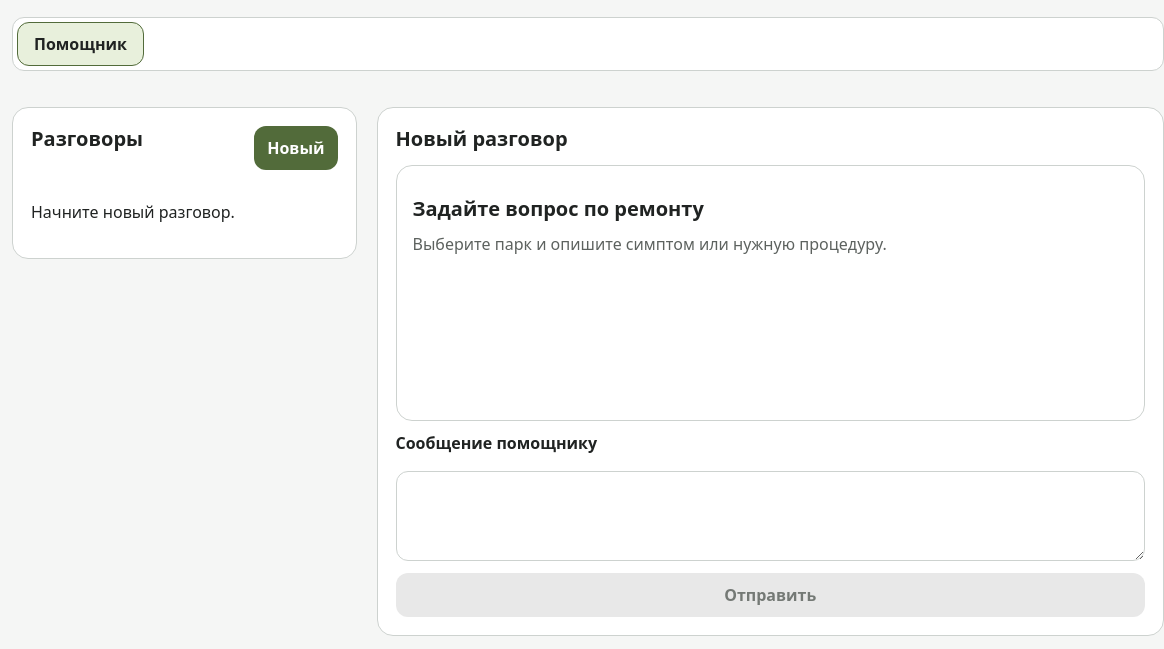
Test case: AssistantPage › preserves a failed chat draft and renders returned source citations after retry
Type "Как проверить лидар?" into the text box labelled "Сообщение помощнику" at (770, 516), box 396,471 -> 1145,561
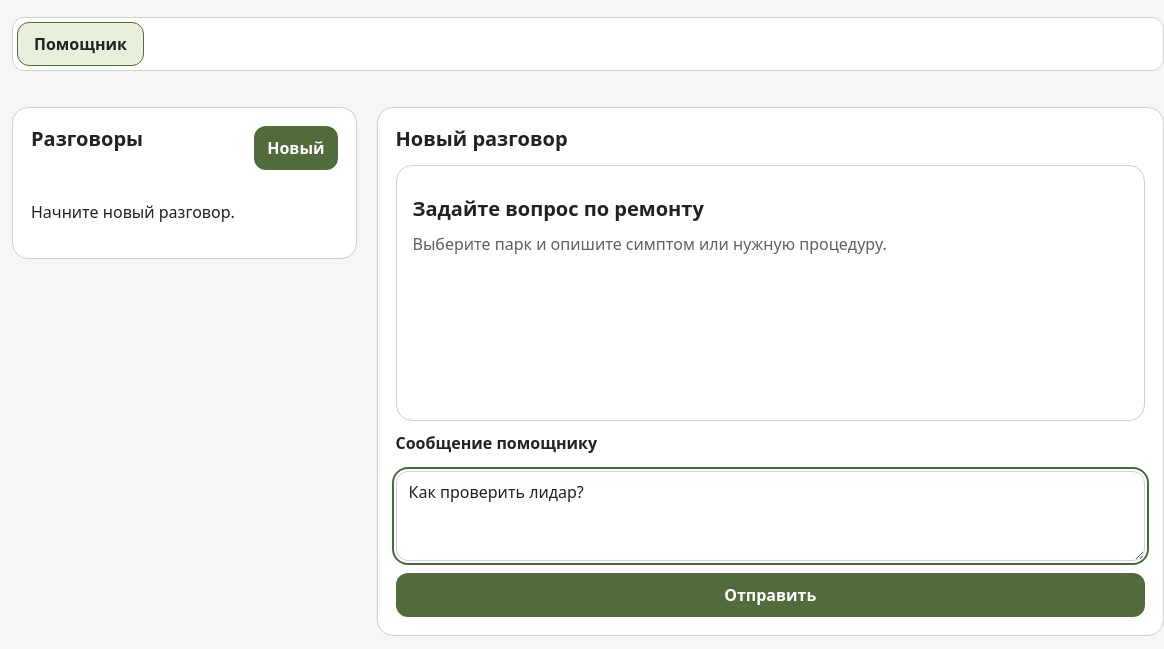
Click the button "Отправить" at (770, 595), box 396,573 -> 1145,617
(page scrolled)
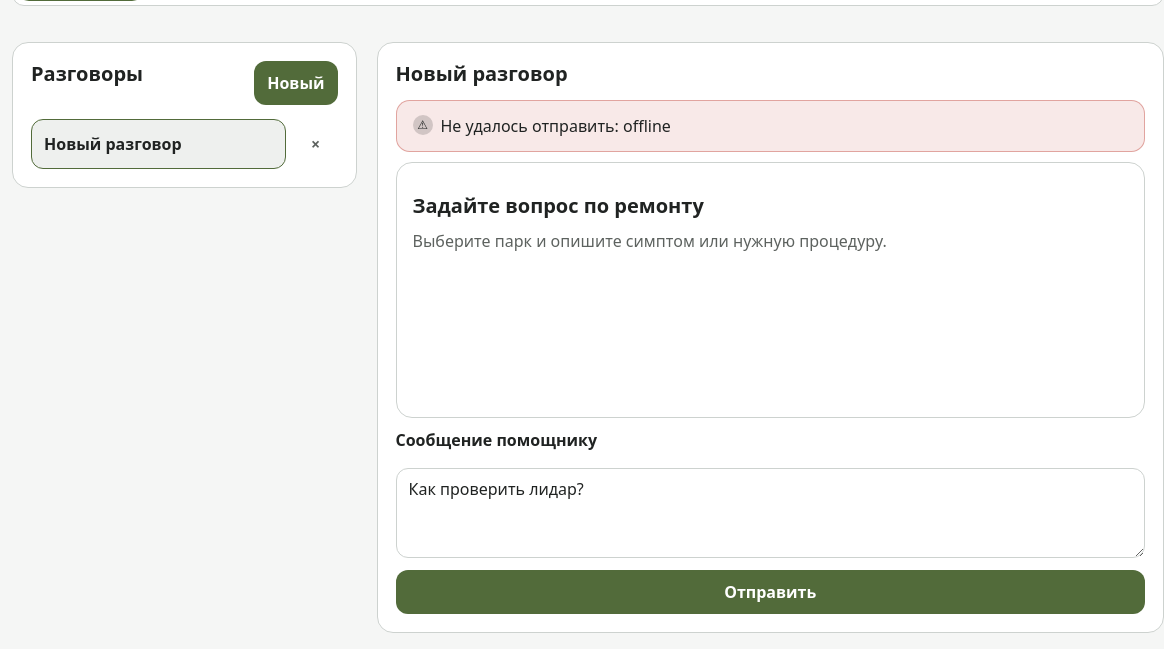
Result: the message shows "Не удалось отправить" at 440,115 -> 671,137
Click the button "Отправить" at (770, 592), box 396,570 -> 1145,614
(page scrolled)
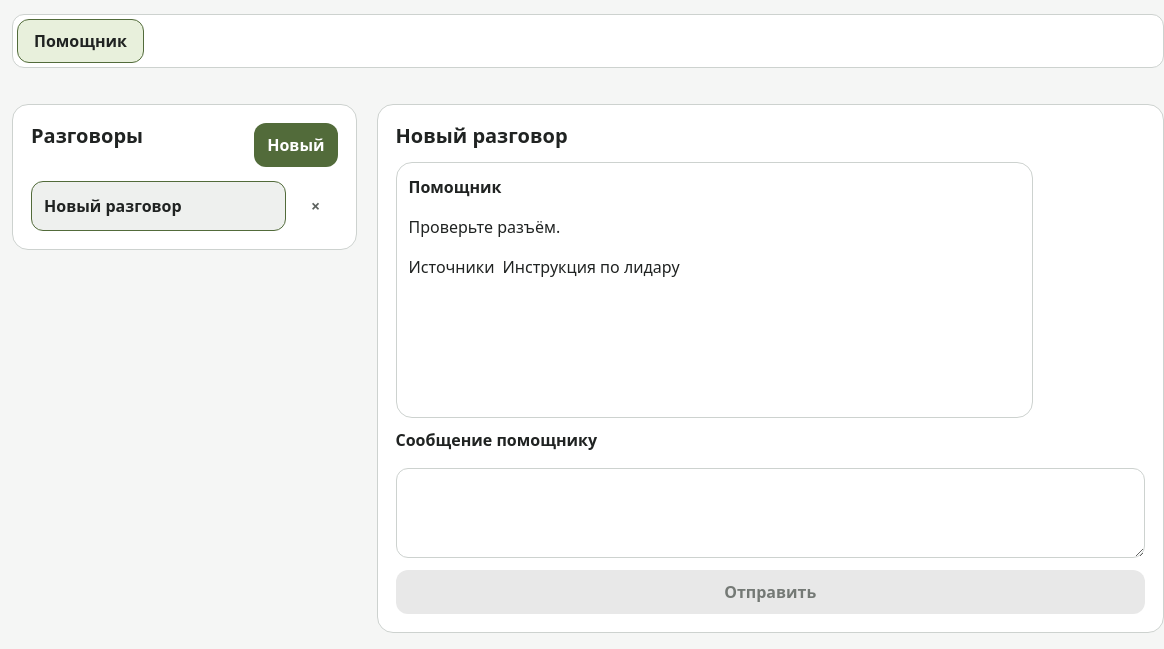
Result: the text "Инструкция по лидару" is shown at 502,255 -> 680,279
Result: the text box labelled "Сообщение помощнику" is empty at 396,468 -> 1145,558
